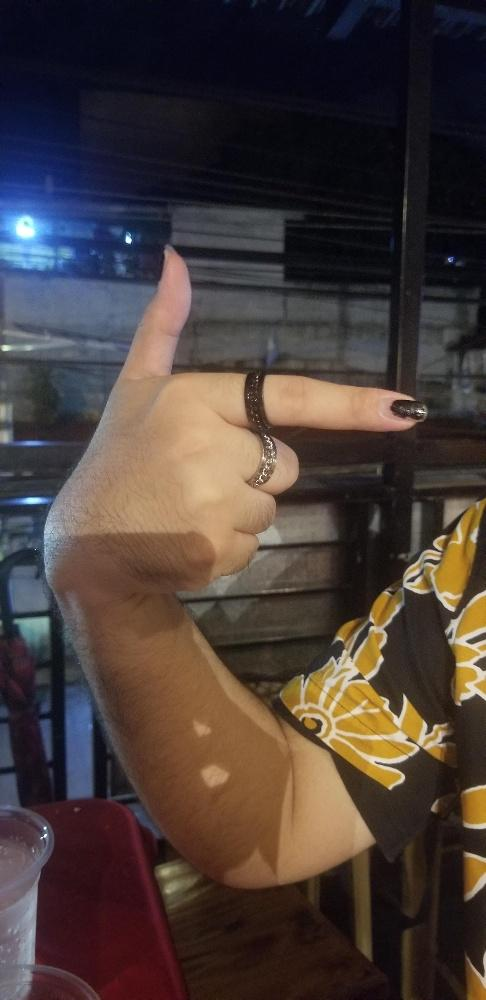g: (36, 242, 420, 587)
